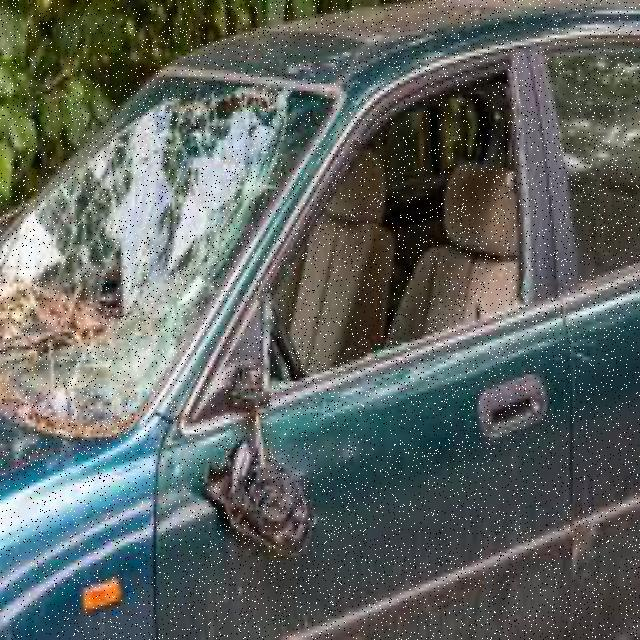Front-Windscreen-Damage: (0, 74, 342, 427)
Sidemirror-Damage: (200, 423, 316, 577)
